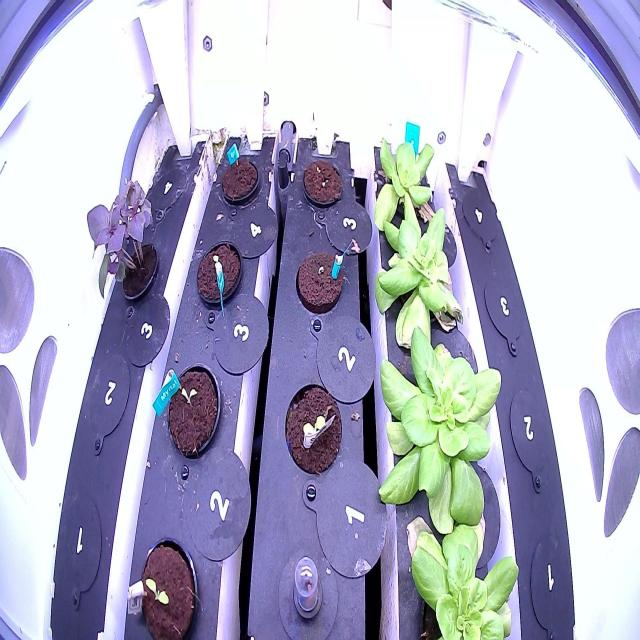empty_pod: (525, 514, 576, 639), (56, 489, 106, 612), (504, 379, 552, 497), (85, 343, 133, 458), (482, 274, 528, 361), (458, 182, 502, 252), (146, 160, 189, 224)
germination: (280, 375, 345, 485), (134, 532, 200, 638), (163, 358, 223, 463)
pod: (194, 231, 245, 317), (294, 245, 346, 317), (218, 148, 264, 212), (300, 152, 343, 214)
young: (376, 323, 511, 538), (398, 499, 521, 638), (375, 205, 471, 356), (370, 129, 450, 239)
